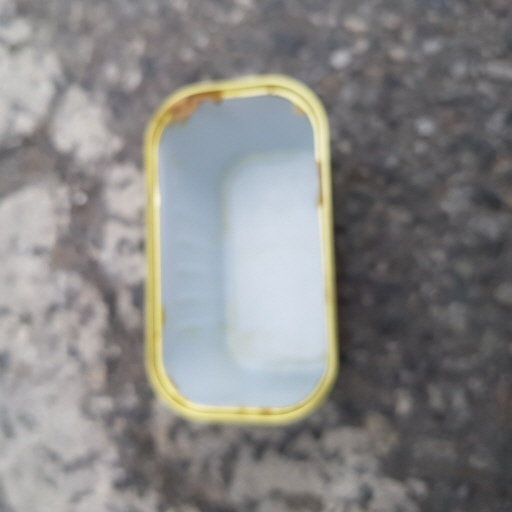Metal_2: (140, 74, 343, 430)
